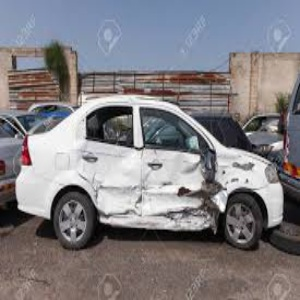door: (91, 147, 215, 230)
